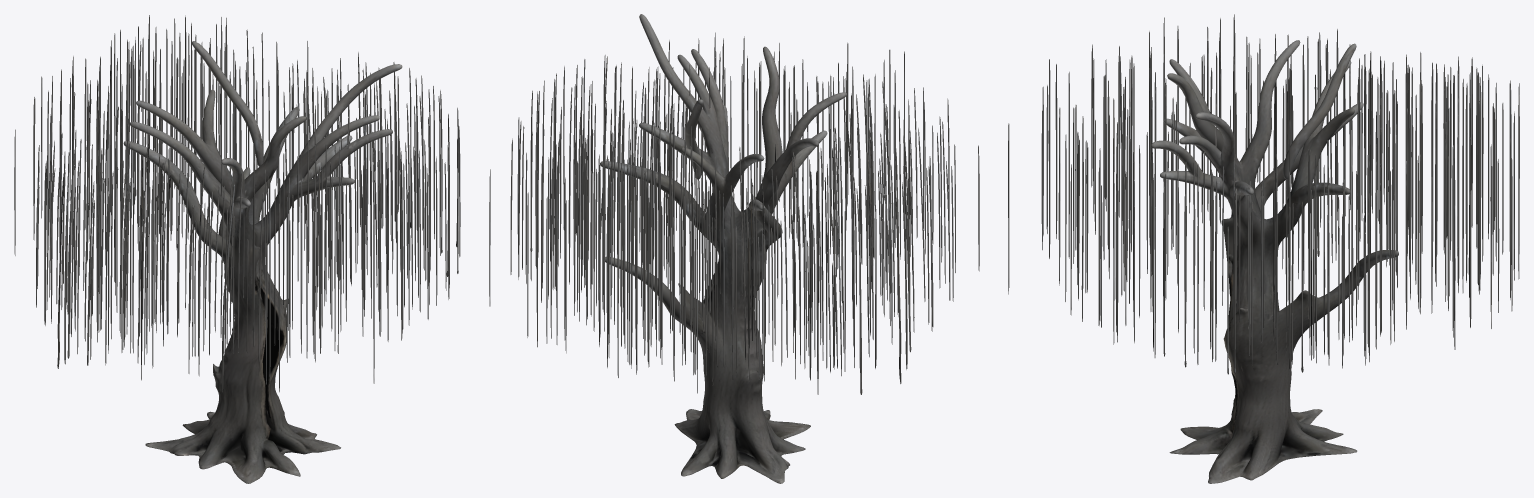
File: willow.glb
3 views of the same model, side by side, from view 1: azimuth 30°, elevation 25°; view 2: azimuth 150°, elevation 25°; view 3: azimuth 270°, elevation 25° (orthographic). The views are drawn at different scales.
Visible parts, largest first — view 1: node_0; view 2: node_0; view 3: node_0.
Boxes of the visible parts, box(x1,y1,x2,y2) form: node_0: box(14, 15, 460, 483); node_0: box(489, 14, 979, 483); node_0: box(1008, 14, 1519, 483).
Size of the model in its own units: 0.9346 by 0.8554 by 0.9941.
1 material, 1 textured.
